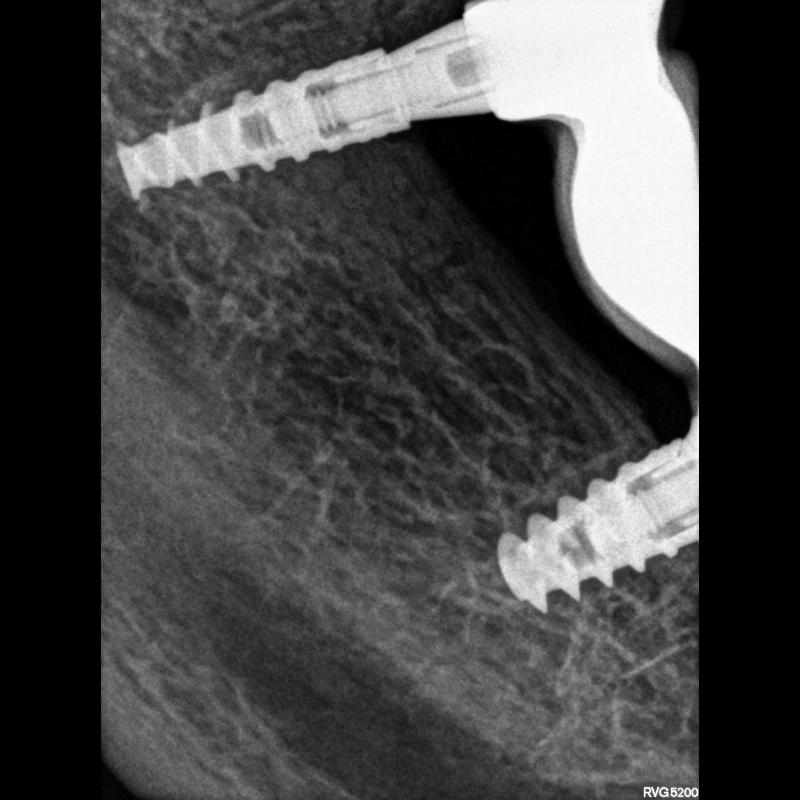ADIN: (104, 31, 406, 234), (485, 412, 699, 646)
